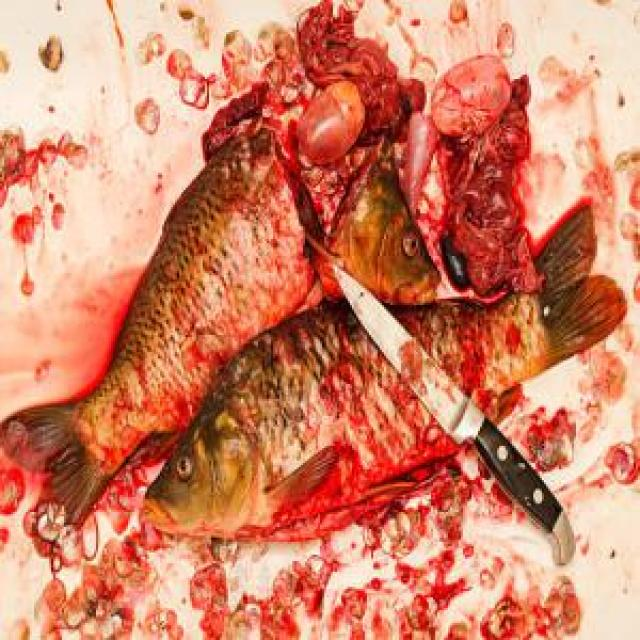knife: (331, 258, 576, 568)
